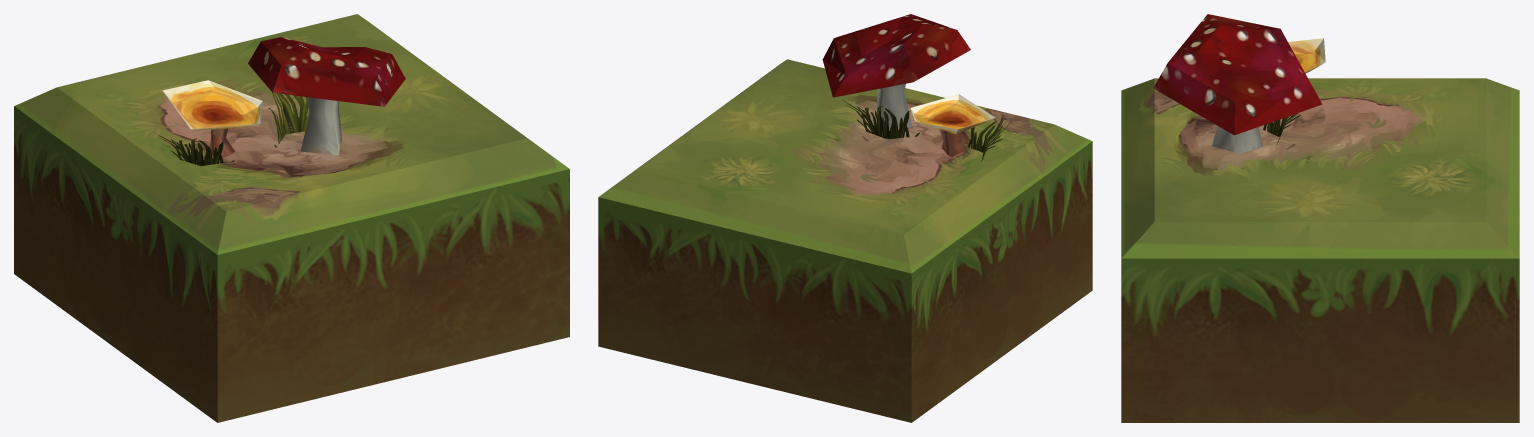
Rendered from tile_final9.FBX.
3 renders of one model, left to right at view 1: azimuth 30°, elevation 25°; view 2: azimuth 150°, elevation 25°; view 3: azimuth 270°, elevation 25°, orthographic. The views are drawn at different scales.
Visible parts, largest first — view 1: Prefab3; view 2: Prefab3; view 3: Prefab3.
Part boxes in pixels (x1,y1,x2,y2): Prefab3: [14, 14, 569, 422]; Prefab3: [598, 14, 1092, 422]; Prefab3: [1121, 14, 1519, 422].
Bounding box in the file's own units: 24.96 × 20.47 × 24.96.
2 materials, 2 textured.
